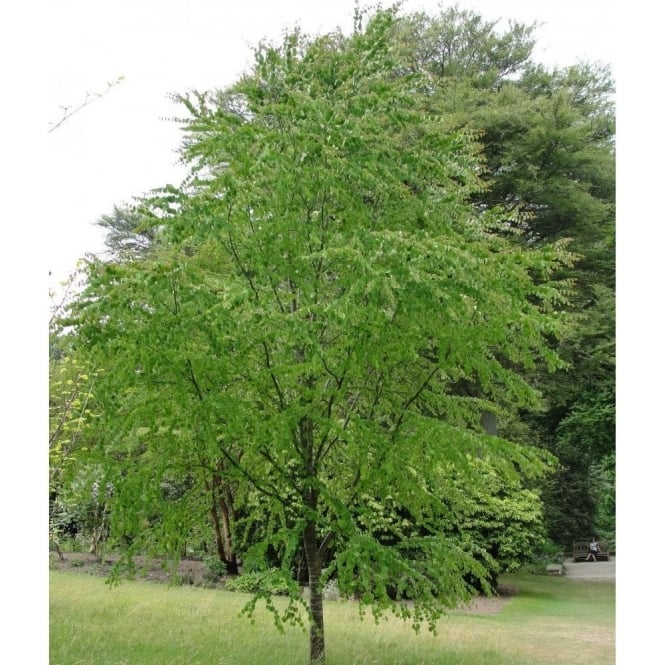tree: (54, 1, 593, 664)
